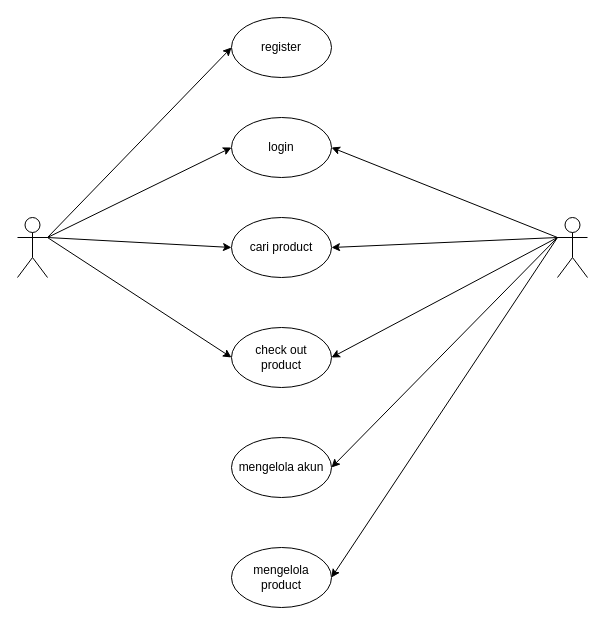
Some shapes in this 606 by 625 pixel diagram are drawn without their labels. The shapes that lost their labels are listed below. From the top down, each one's box as (x1, y1, x2, y2) in pixels, then its label:
(16, 216, 48, 278): user
(556, 216, 588, 278): admin
